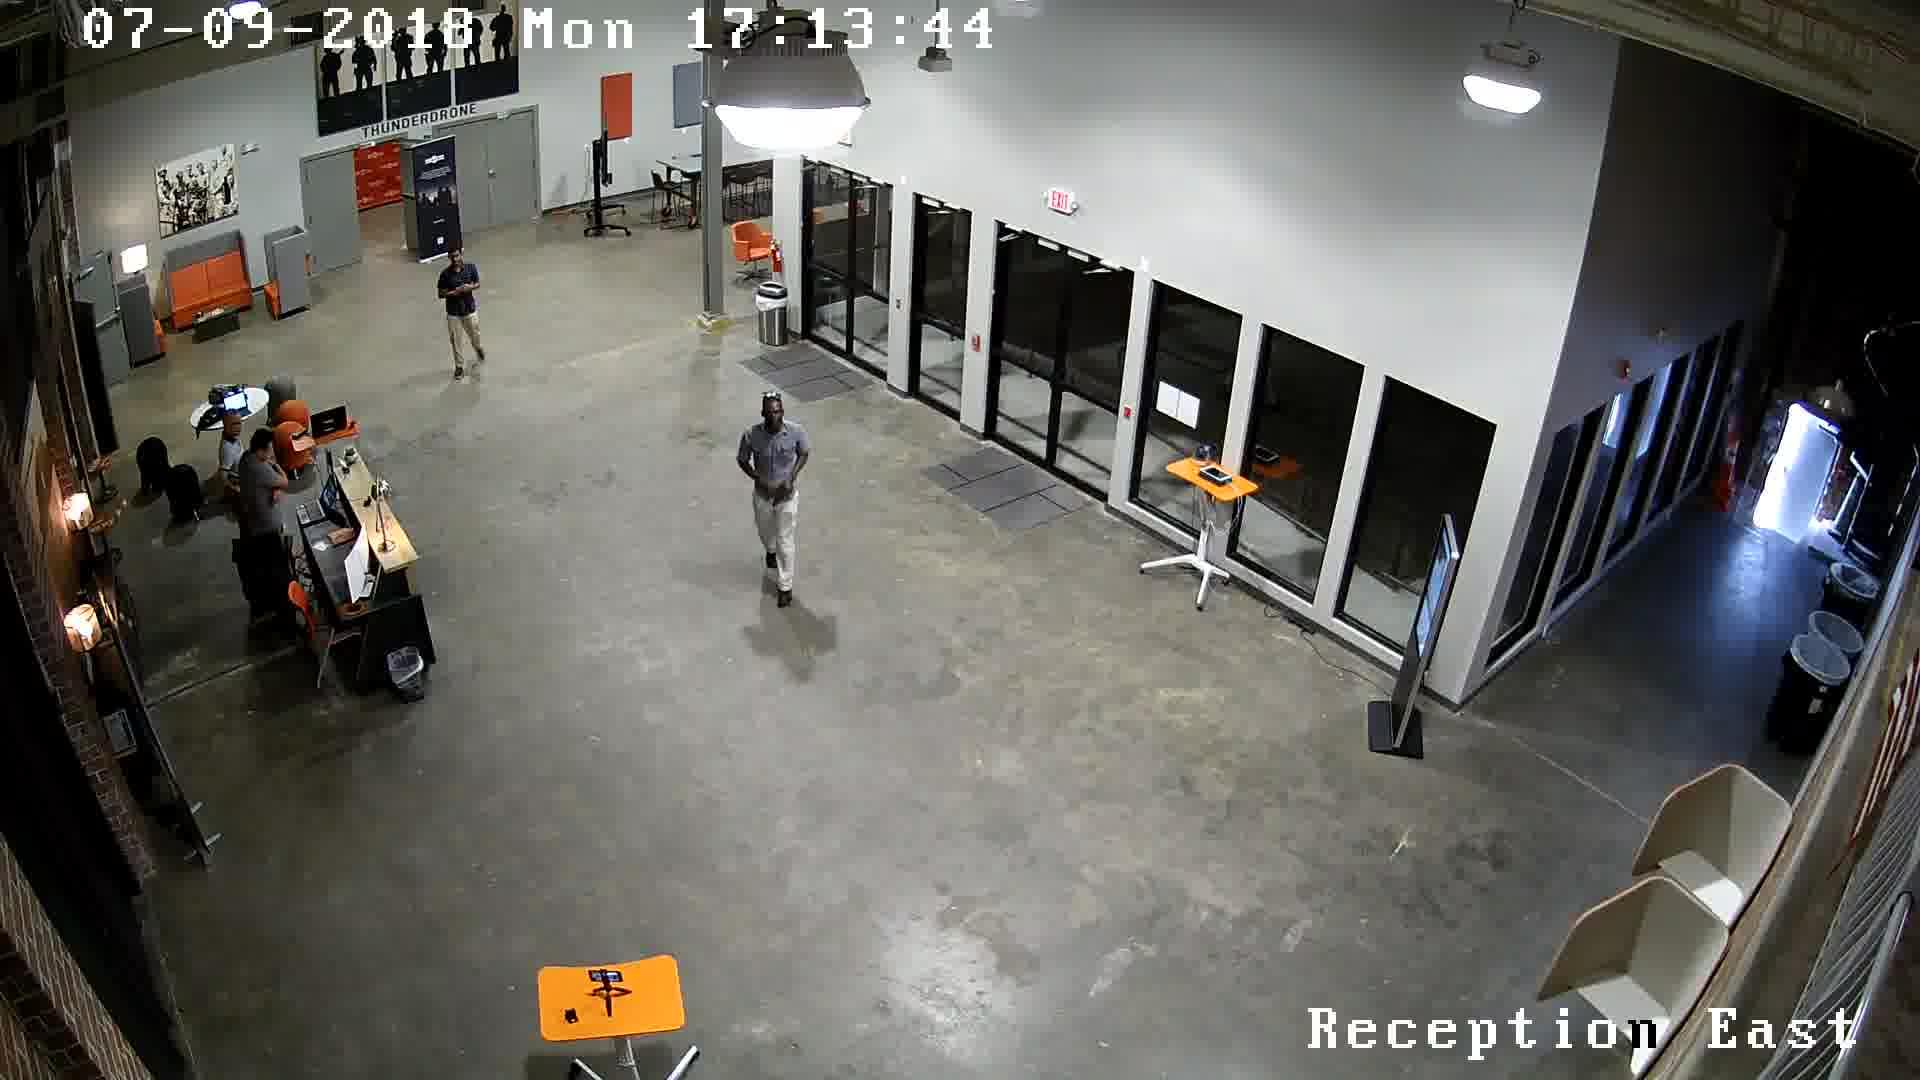pistol: (756, 472, 804, 520)
